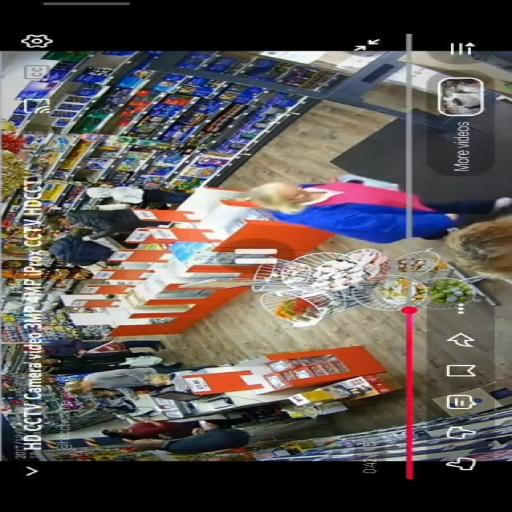workers: (64, 208, 150, 245), (40, 337, 171, 361), (45, 230, 122, 266), (46, 354, 164, 376), (84, 182, 148, 212)
